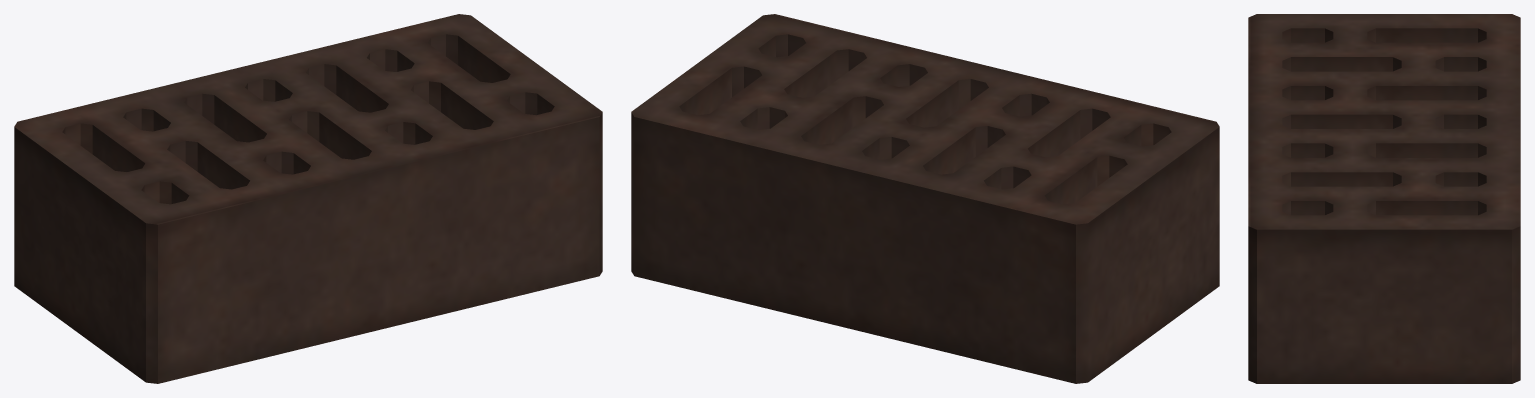
File: brick.obj
3 renders of one model, left to right at view 1: azimuth 30°, elevation 25°; view 2: azimuth 150°, elevation 25°; view 3: azimuth 270°, elevation 25°, orthographic. The views are drawn at different scales.
Visible parts, largest first — view 1: brick; view 2: brick; view 3: brick.
Part boxes in pixels (bbox=[...]): brick: bbox=[14, 14, 602, 383]; brick: bbox=[631, 14, 1219, 383]; brick: bbox=[1248, 14, 1520, 383].
Size of the model in its own units: 0.42 by 0.14 by 0.224.
